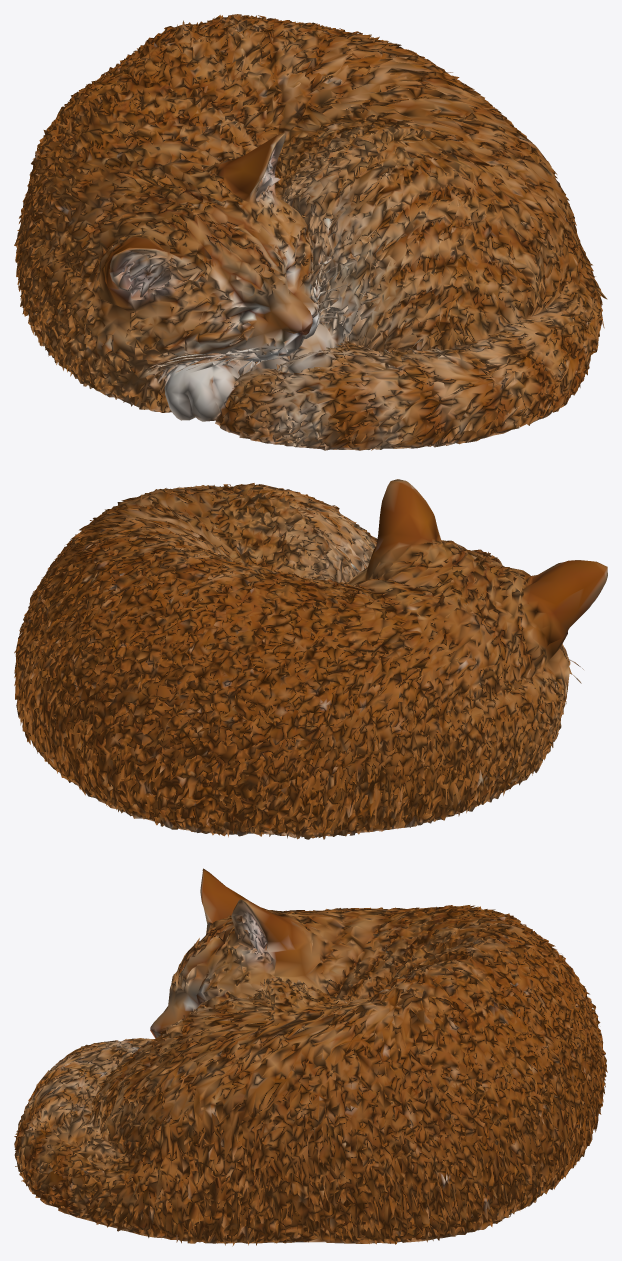
The model's file is cat.glb.
3 renders of one model, top to bottom at view 1: azimuth 30°, elevation 25°; view 2: azimuth 150°, elevation 25°; view 3: azimuth 270°, elevation 25°, orthographic. The views are drawn at different scales.
Size of the model in its own units: 1.68 by 0.7846 by 1.9.
